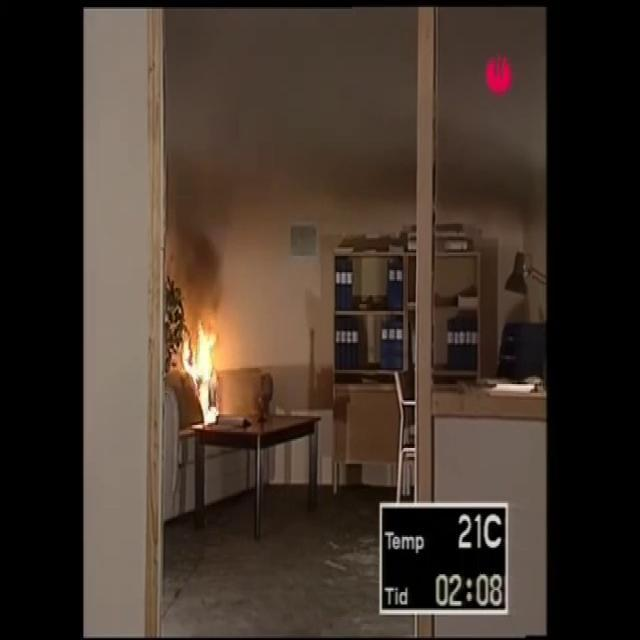Fire: (180, 318, 215, 424)
Smoke: (165, 173, 232, 309)
